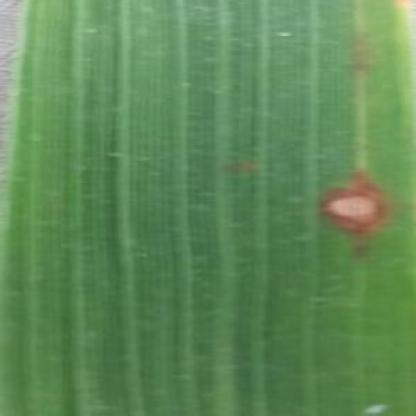Rice blast: (307, 166, 406, 259)
